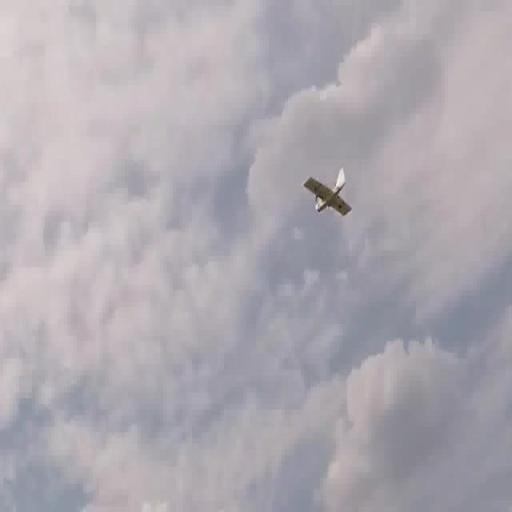uav: (300, 162, 356, 224)
